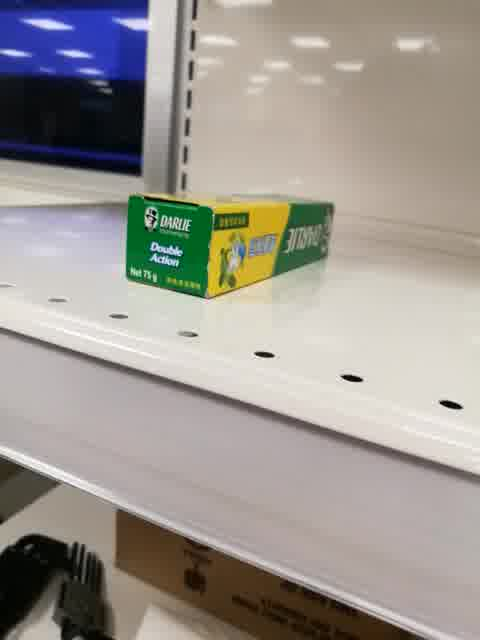toothpaste: (125, 193, 334, 302)
